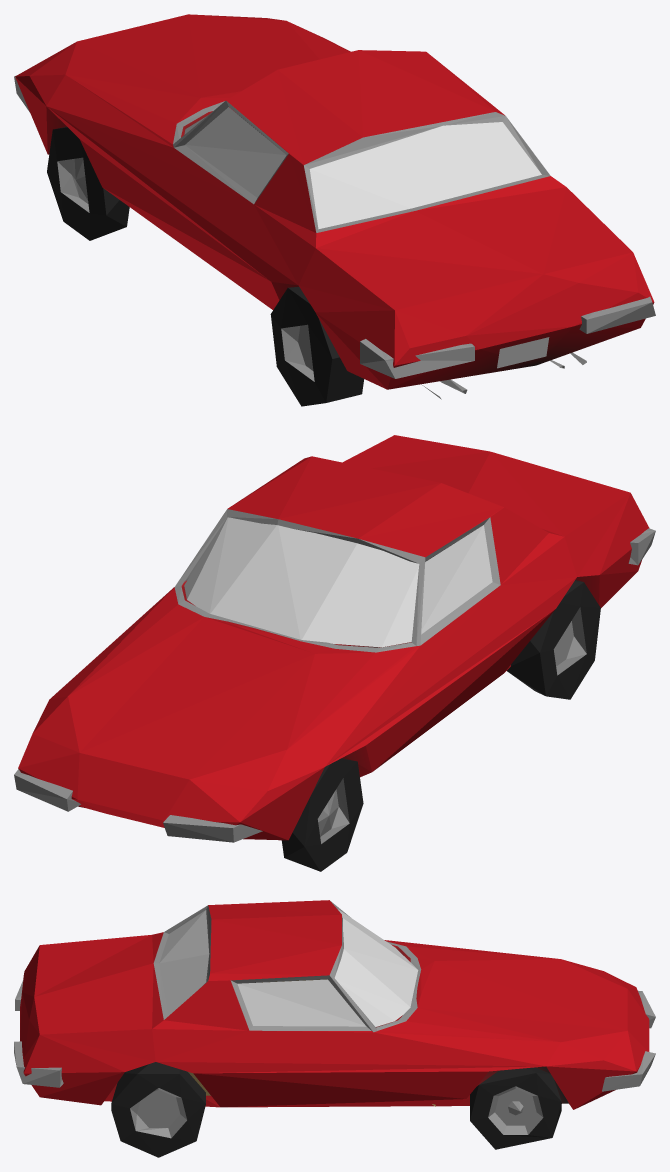
Rendered from sports-car.car-v2.lod2.glb.
3 views of the same model, one above another, from view 1: azimuth 30°, elevation 25°; view 2: azimuth 150°, elevation 25°; view 3: azimuth 270°, elevation 25° (orthographic). The views are drawn at different scales.
Visible parts, largest first — view 1: CarBody_body_0; view 2: CarBody_body_0; view 3: CarBody_body_0.
Part boxes in pixels (<box>): CarBody_body_0: <box>14,14,655,406</box>; CarBody_body_0: <box>14,435,655,871</box>; CarBody_body_0: <box>14,900,655,1157</box>.
Bounding box in the file's own units: 1.79 × 1.36 × 4.5.
